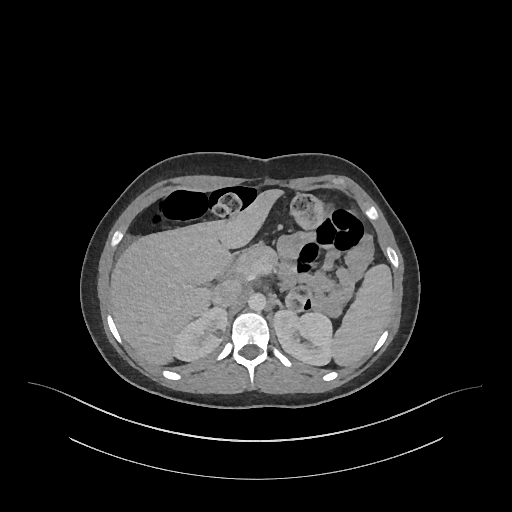Lesion: (212, 324, 230, 342)
